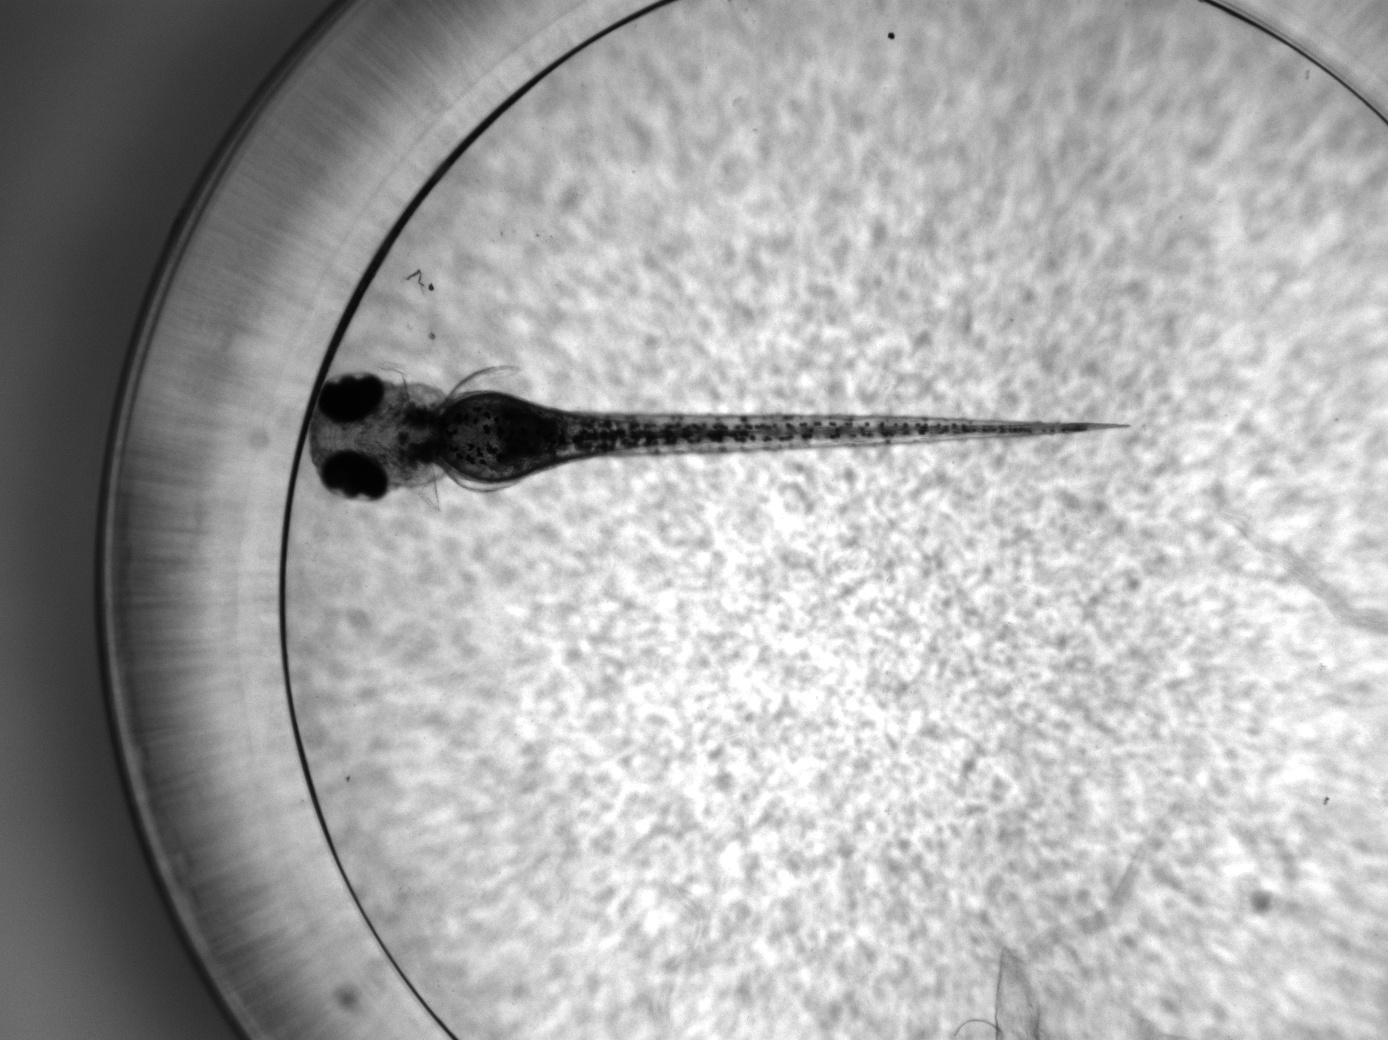embryo: (309, 373, 1134, 507)
eye: (317, 450, 387, 503), (317, 374, 385, 424)
yolksac: (434, 392, 551, 483)
